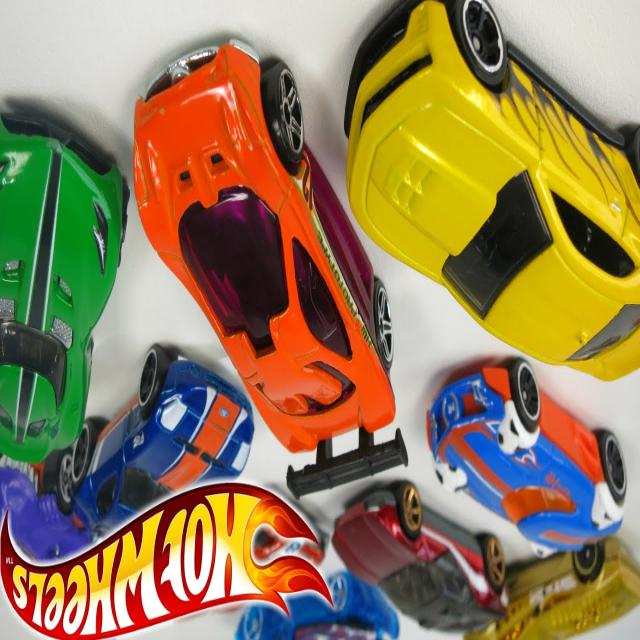Car: (132, 39, 408, 502), (344, 2, 640, 384), (0, 112, 130, 466), (426, 358, 628, 560), (70, 345, 255, 540), (332, 482, 510, 636), (464, 537, 640, 640), (236, 571, 401, 640)
